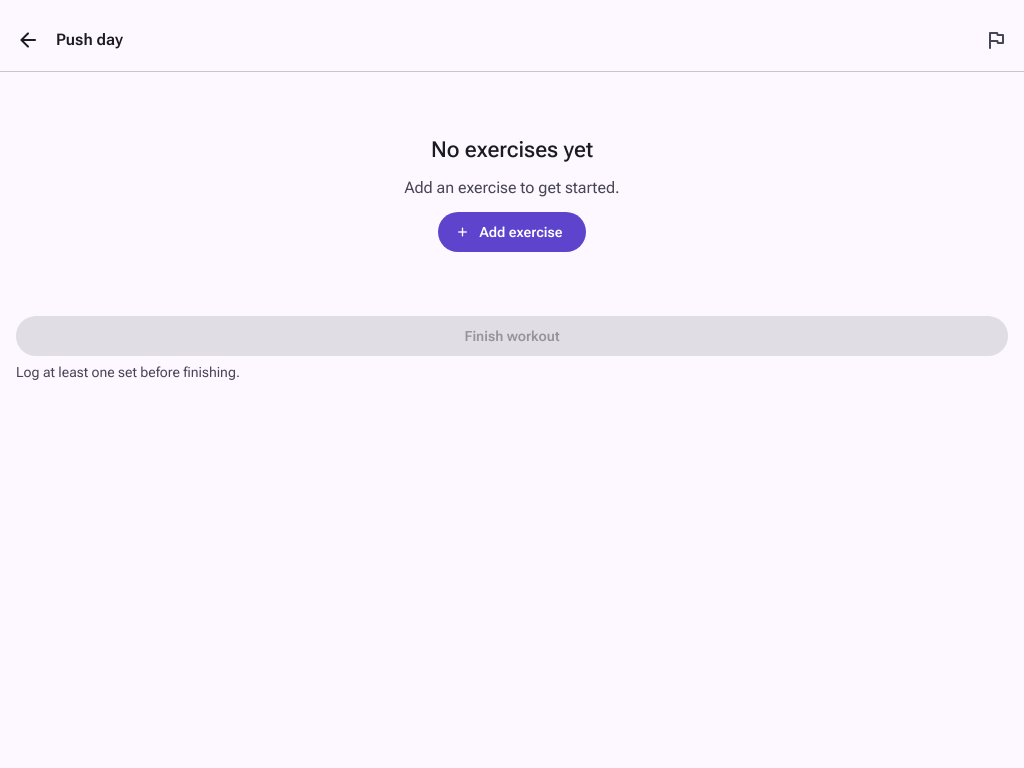
Test: ActiveWorkoutScreen › surfaces an error banner instead of navigating when abandoning fails
Click the button named "Abandon workout": (996, 40) [972,16,1020,64]
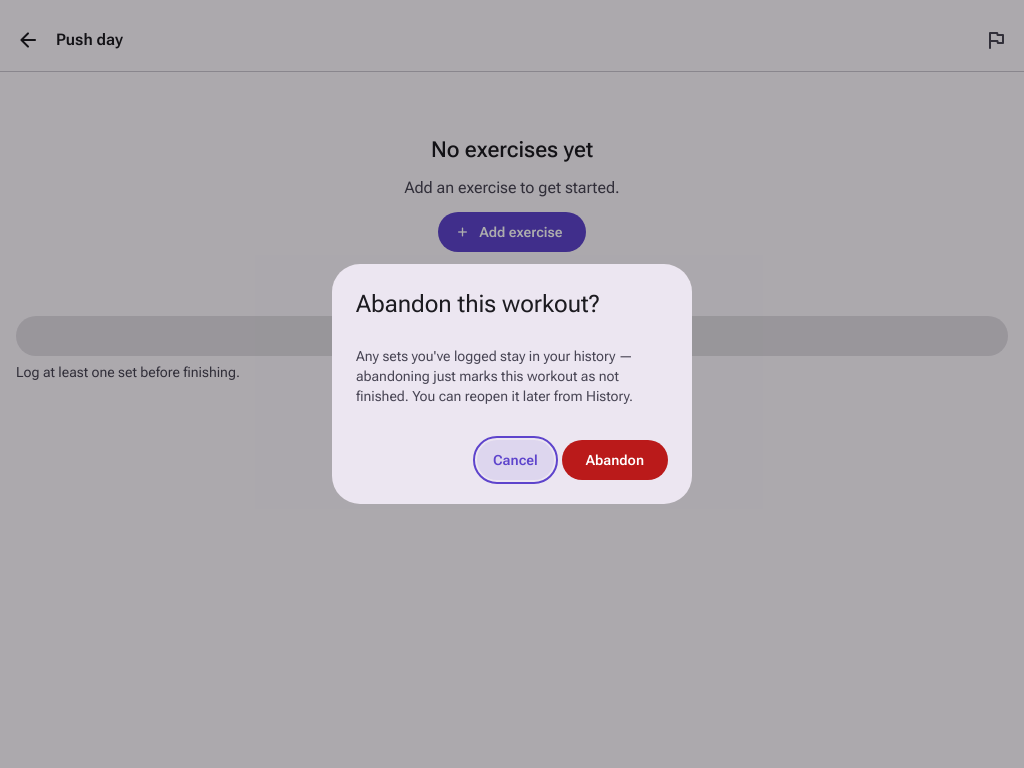
Click the button "Abandon": (615, 460) [562,440,668,480]
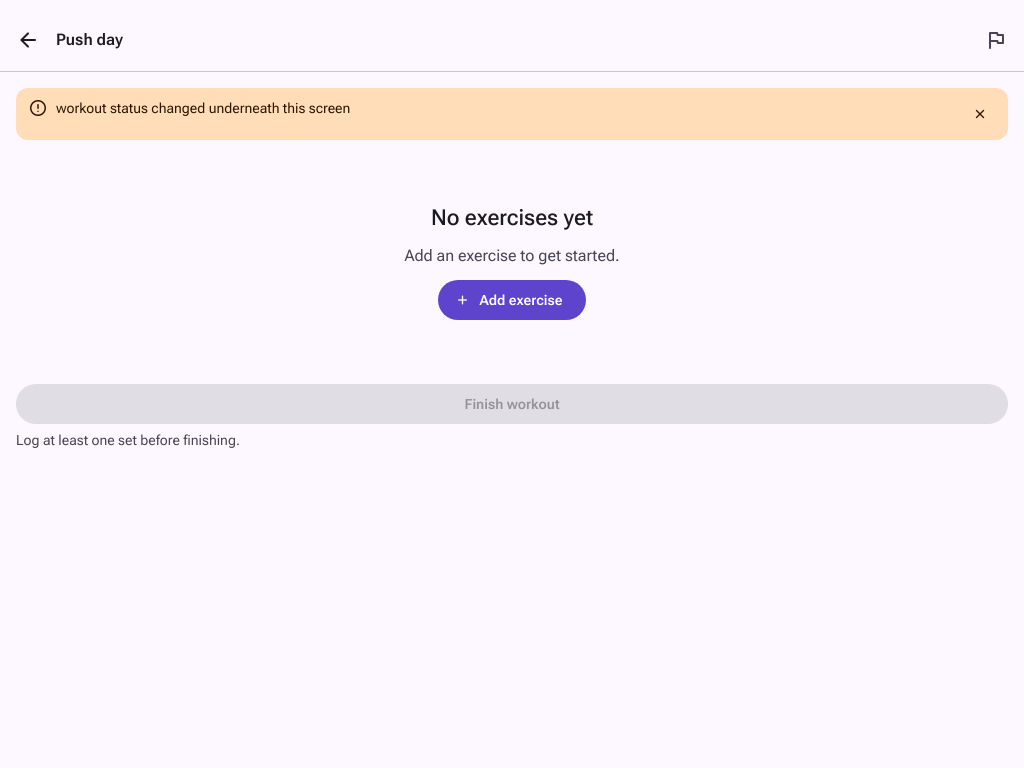
Now the text "workout status changed underneath this screen" is shown, box [56,100,350,116]
